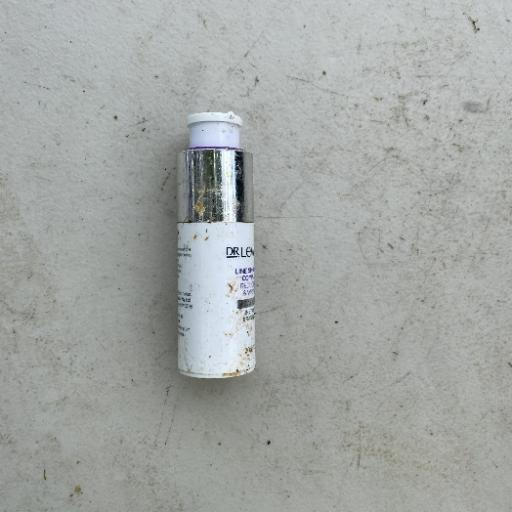Plastic: (173, 110, 259, 381)
